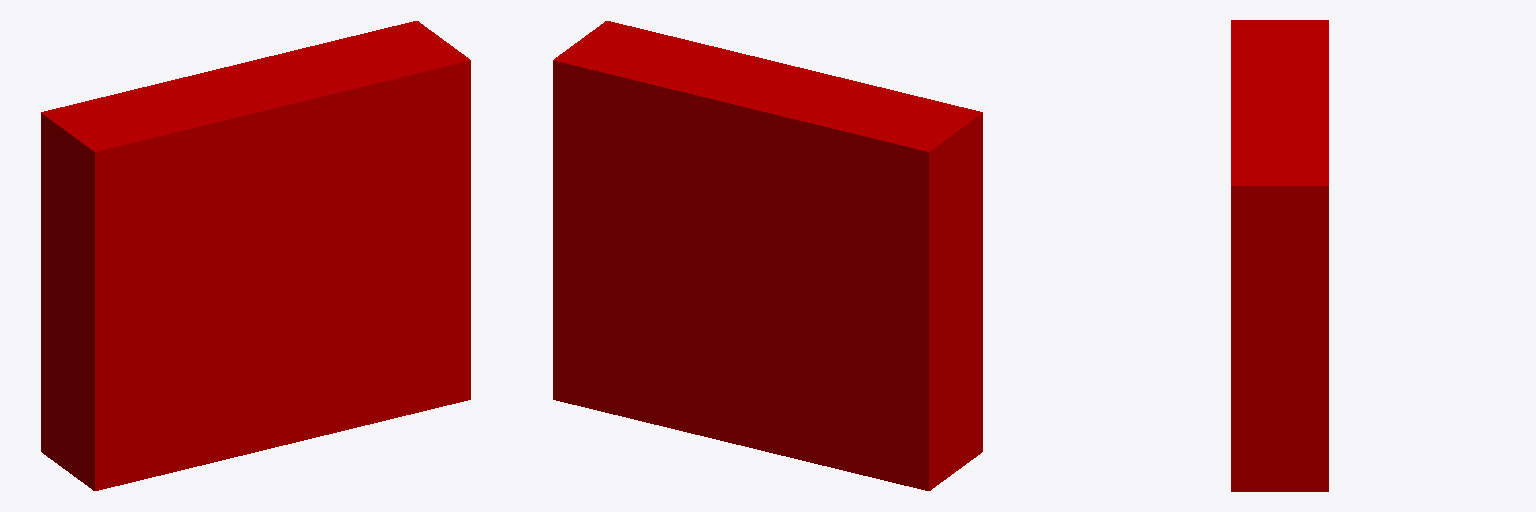
URDF robot description (crayola):
<?xml version="0.0" ?>
<robot name="crayola">
    <link name="crayola_link">
        <contact>
            <lateral_friction value="1"/>
        </contact>
        <inertial>
            <origin rpy="0 0 0" xyz="0 0 0"/>
            <mass value=".3"/>
            <inertia ixx="0" ixy="0" ixz="0" iyy="0" iyz="0" izz="0"/>
        </inertial>
        <visual>
            <origin rpy="0 0 0" xyz="0 0 0"/>
            <geometry>
                <mesh filename="crayola.obj" scale="1 1 1"/>
            </geometry>
            <material name="red">
                <color rgba="0.8 0.0 0.0 1"/>
            </material>
        </visual>
        <collision>
            <origin rpy="0 0 0" xyz="0 0 0"/>
            <geometry>
                <mesh filename="crayola.obj" scale="1 1 1"/>
            </geometry>
        </collision>
    </link>
</robot>

--- Render facts (derived) ---
Views: 3 orthographic renders of the robot side by side, from view 1: azimuth 30°, elevation 25°; view 2: azimuth 150°, elevation 25°; view 3: azimuth 270°, elevation 25°.
Model crayola with 1 links and 0 joints (none), rooted at crayola_link, posed every joint at zero.
Visible links, largest first — view 1: crayola_link; view 2: crayola_link; view 3: crayola_link.
Link boxes in pixels (bbox=[...]): crayola_link: bbox=[41, 21, 470, 490]; crayola_link: bbox=[553, 21, 982, 490]; crayola_link: bbox=[1231, 20, 1328, 491].
Bounding box of the posed robot: 0.144 × 0.036 × 0.124 m (x, y, z).
1 mesh visuals loaded from 1 distinct referenced files (1 OBJ).